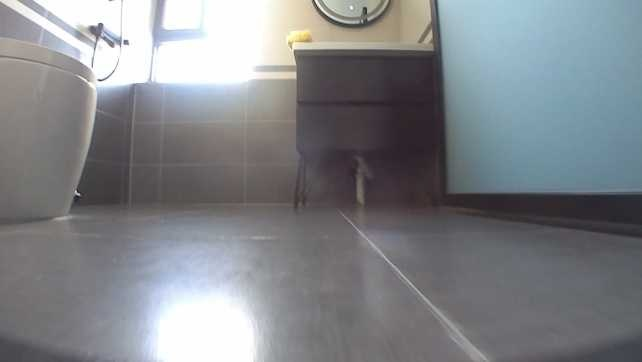toilet: (1, 37, 96, 220)
washstand: (285, 30, 440, 210)
